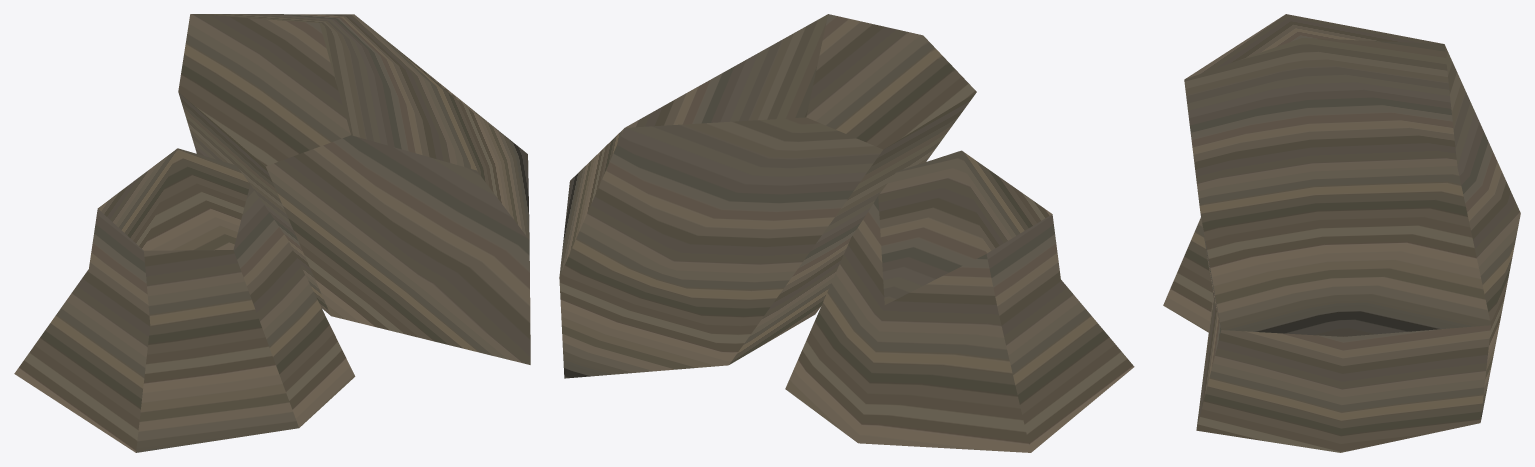
File: rock_gformation2_hdtex.glb
3 renders of one model, left to right at view 1: azimuth 30°, elevation 25°; view 2: azimuth 150°, elevation 25°; view 3: azimuth 270°, elevation 25°, orthographic. The views are drawn at different scales.
Visible parts, largest first — view 1: Rock_GFormation2; view 2: Rock_GFormation2; view 3: Rock_GFormation2.
Part boxes in pixels (x1,y1,x2,y2): Rock_GFormation2: (14,14,530,452); Rock_GFormation2: (559,14,1134,452); Rock_GFormation2: (1163,14,1520,452).
Bounding box in the file's own units: 23.54 × 15.82 × 15.99.
Materials: 1 (1 with a texture image).
